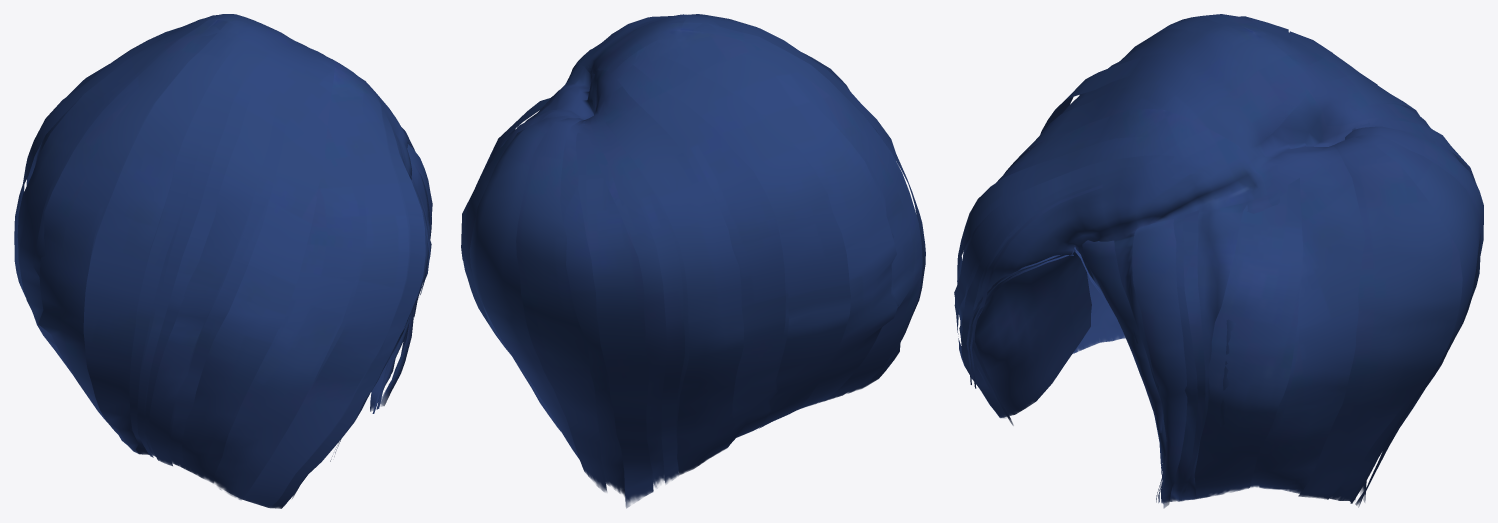
The model's file is hair_pixie_blue.glb.
3 renders of one model, left to right at view 1: azimuth 30°, elevation 25°; view 2: azimuth 150°, elevation 25°; view 3: azimuth 270°, elevation 25°, orthographic. The views are drawn at different scales.
Parts seen in each view (by area): view 1: hair_pixie_blue; view 2: hair_pixie_blue; view 3: hair_pixie_blue.
Part boxes in pixels (left/top/right/bottom): hair_pixie_blue: left=14, top=14, right=432, bottom=508; hair_pixie_blue: left=461, top=14, right=925, bottom=508; hair_pixie_blue: left=954, top=14, right=1483, bottom=508.
Size of the model in its own units: 0.1991 by 0.2115 by 0.2148.
Materials: 1 (1 with a texture image).
